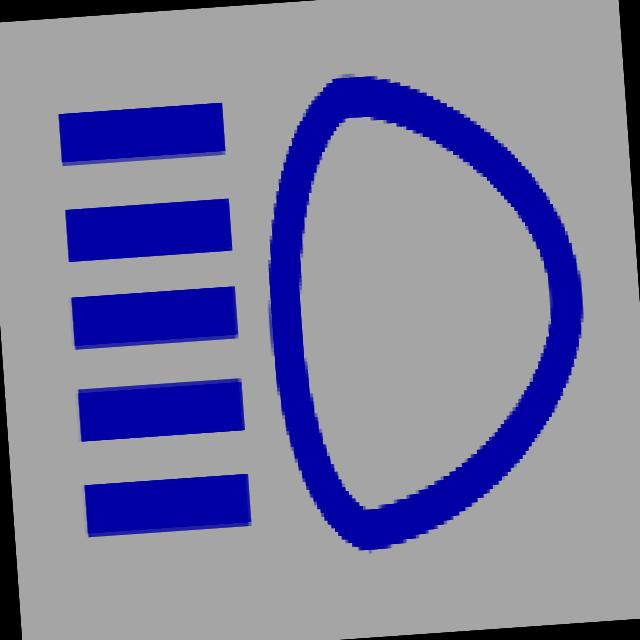kontrolka: (20, 35, 640, 589)
